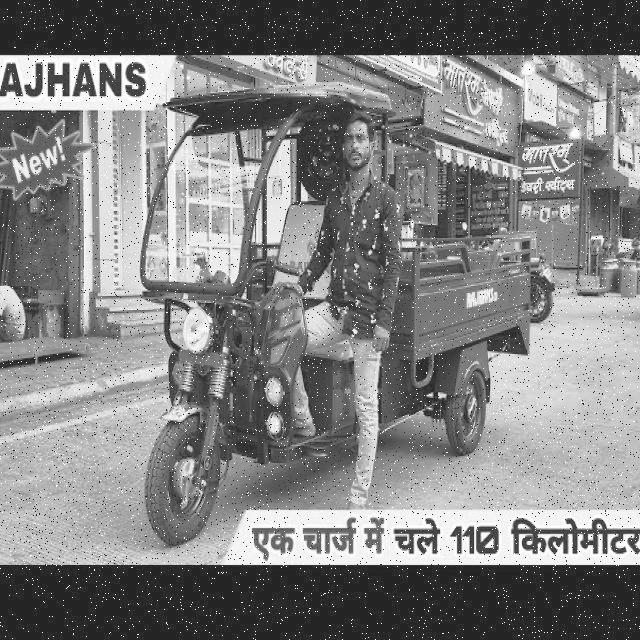Toto: (138, 77, 531, 541)
